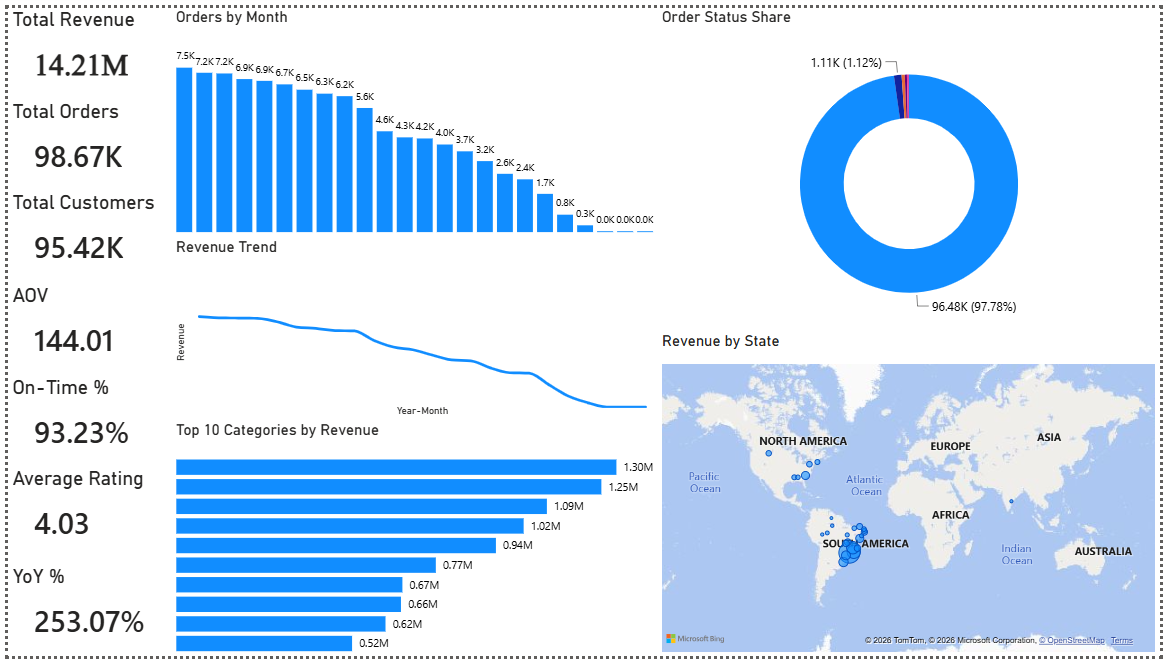

The dashboard page shown, as its layout file describes it:
{"tool":"powerbi","page":{"name":"Overview (Exicutive_Dashboard)","canvas":[1280,720],"ordinal":0},"visuals":[{"type":"cardVisual","title":"Total Revenue","fields":{"Data":["public bi_fact_sales.Revenue"]},"box":[0,0,181.2,101.7],"z":0},{"type":"cardVisual","title":"Total Orders","fields":{"Data":["public bi_fact_sales.Orders"]},"box":[0,102,181.2,101.7],"z":1000},{"type":"cardVisual","title":"Total Customers","fields":{"Data":["public bi_fact_sales.Customers"]},"box":[0,204,181.2,101.7],"z":2000},{"type":"cardVisual","title":"AOV","fields":{"Data":["public bi_fact_sales.AOV"]},"box":[0,306,181.2,101.7],"z":3000},{"type":"cardVisual","title":"On-Time %","fields":{"Data":["public bi_fact_sales.On-time %"]},"box":[0,408,181.2,101.7],"z":4000},{"type":"cardVisual","title":"Average Rating","fields":{"Data":["public bi_fact_sales.Avg Rating"]},"box":[0,510,181.2,101.7],"z":5000},{"type":"cardVisual","title":"YoY %","fields":{"Data":["public bi_fact_sales.YoY %"]},"box":[0,618,181.2,101.7],"z":6000},{"type":"lineChart","title":"Revenue Trend","fields":{"Category":["DimDate.Year-Month"],"Y":["public bi_fact_sales.Revenue"]},"box":[181.7,255,540,203.3],"z":7000},{"type":"columnChart","title":"Orders by Month","fields":{"Category":["DimDate.Year-Month"],"Y":["public bi_fact_sales.Orders"]},"box":[181.7,0,540,255],"z":8000},{"type":"barChart","title":"Top 10 Categories by Revenue","fields":{"Category":["public bi_fact_sales.category"],"Y":["public bi_fact_sales.Revenue"]},"box":[181.7,458.3,540,261.7],"z":9000},{"type":"map","title":"Revenue by State","fields":{"Category":["public bi_fact_sales.customer_state"],"Size":["public bi_fact_sales.Revenue"]},"box":[721.7,360,558.3,360],"z":10000},{"type":"donutChart","title":"Order Status Share","fields":{"Y":["public bi_fact_sales.Orders"],"Category":["public bi_fact_sales.order_status"]},"box":[721.7,0,558.3,360],"z":11000}]}

Visuals, with their boxes in screenshot pixels (x1, y1, x2, y2), scaled from the page's 1280x720 canvas onto the 1168x661 screenshot:
"Total Revenue" cardVisual: Rect(0, 0, 165, 93)
"Total Orders" cardVisual: Rect(0, 94, 165, 187)
"Total Customers" cardVisual: Rect(0, 187, 165, 281)
"AOV" cardVisual: Rect(0, 281, 165, 374)
"On-Time %" cardVisual: Rect(0, 375, 165, 468)
"Average Rating" cardVisual: Rect(0, 468, 165, 562)
"YoY %" cardVisual: Rect(0, 567, 165, 660)
"Revenue Trend" lineChart: Rect(166, 234, 659, 421)
"Orders by Month" columnChart: Rect(166, 0, 659, 234)
"Top 10 Categories by Revenue" barChart: Rect(166, 421, 659, 660)
"Revenue by State" map: Rect(659, 330, 1167, 660)
"Order Status Share" donutChart: Rect(659, 0, 1167, 330)
